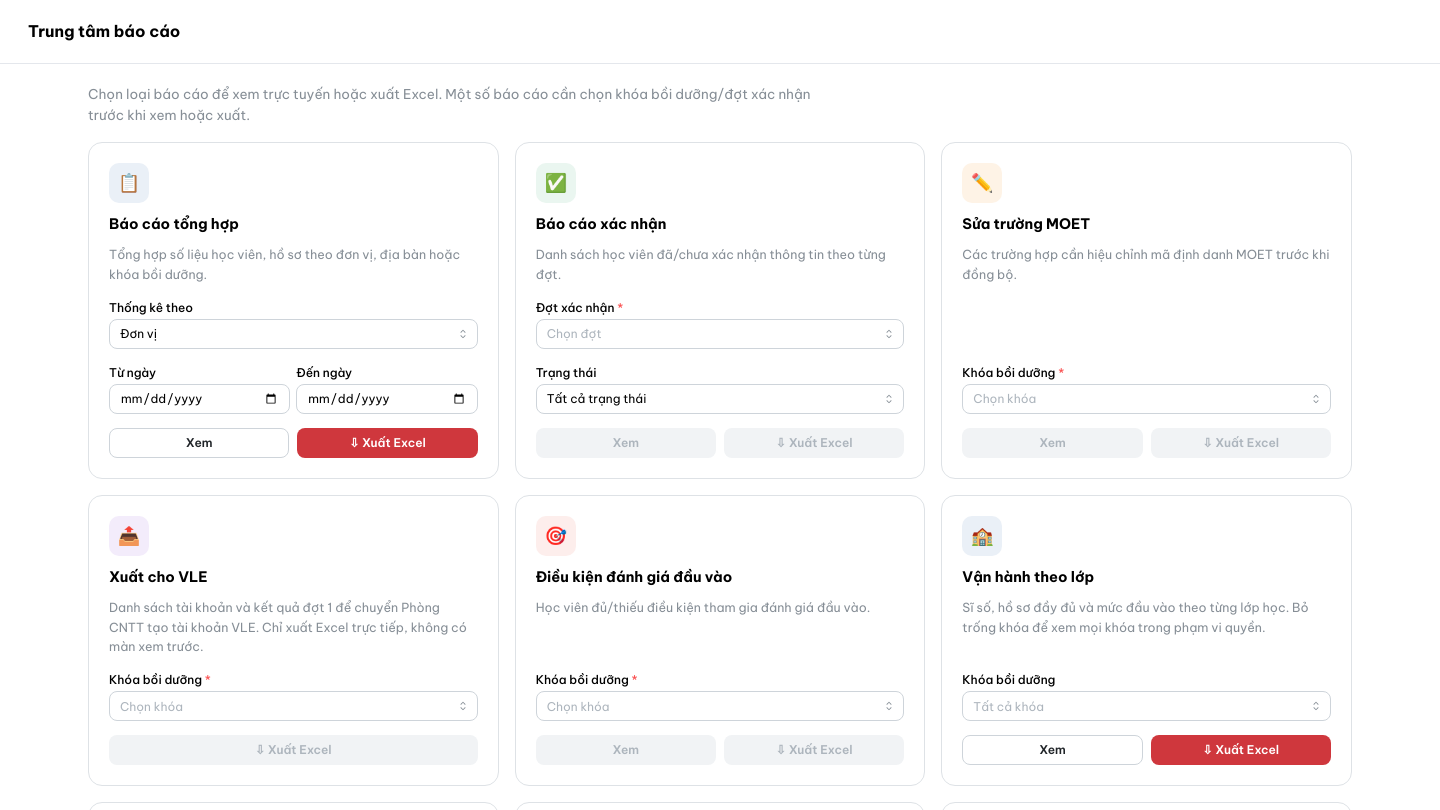
Test: Admin — Trung tâm báo cáo › báo cáo xác nhận: dot_id bắt buộc — Xem/Xuất Excel bị vô hiệu hóa cho đến khi chọn đợt
expect the button "Xem" below "Trạng thái" is disabled: met, box 536,428 -> 716,458
expect the button "⇩ Xuất Excel" below "Trạng thái" is disabled: met, box 724,428 -> 904,458
Click the field labelled "Đợt xác nhận *". click: (720, 334)
box: 536,319 -> 904,349
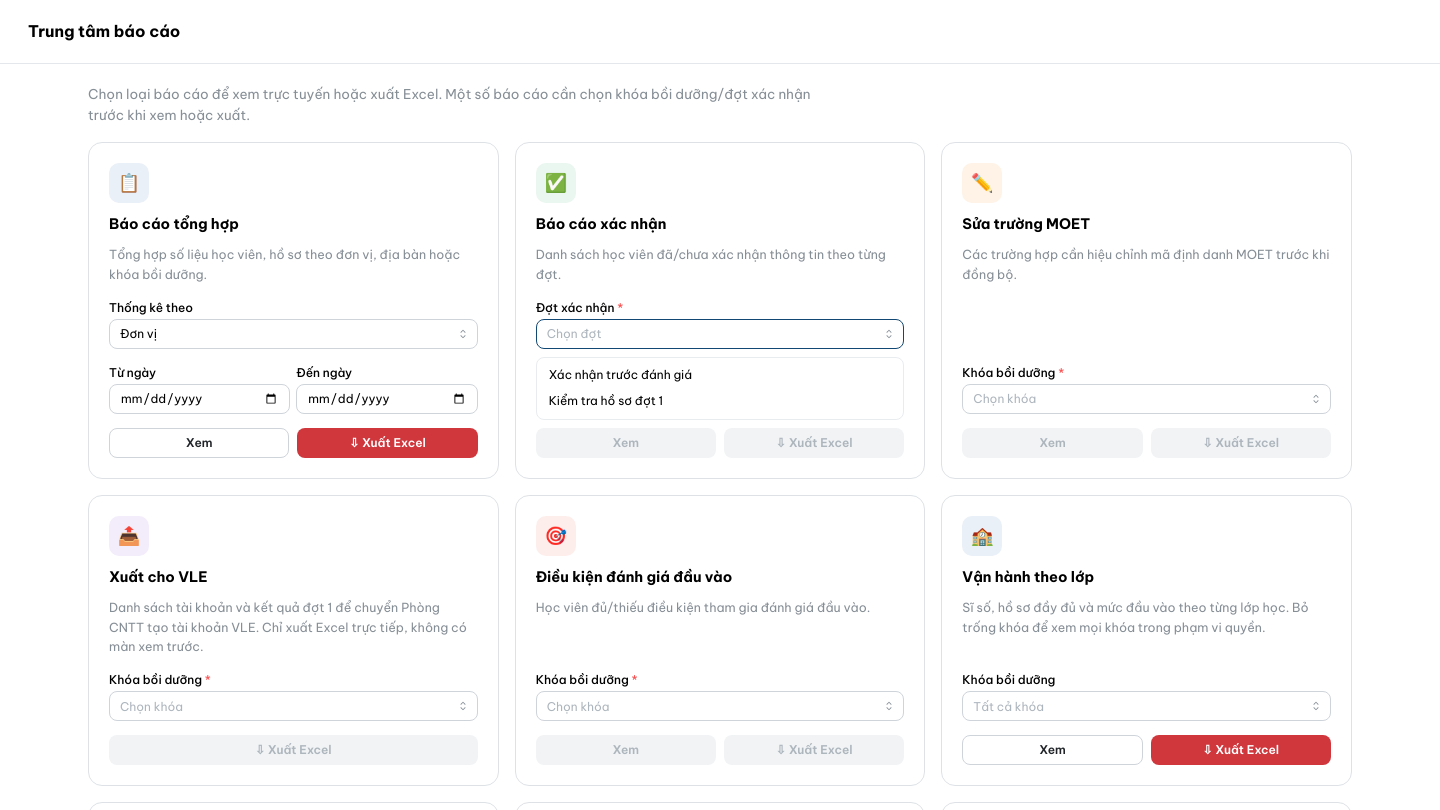
Click the option "Kiểm tra hồ sơ đợt 1". click: (606, 401)
box: 549,394 -> 663,408
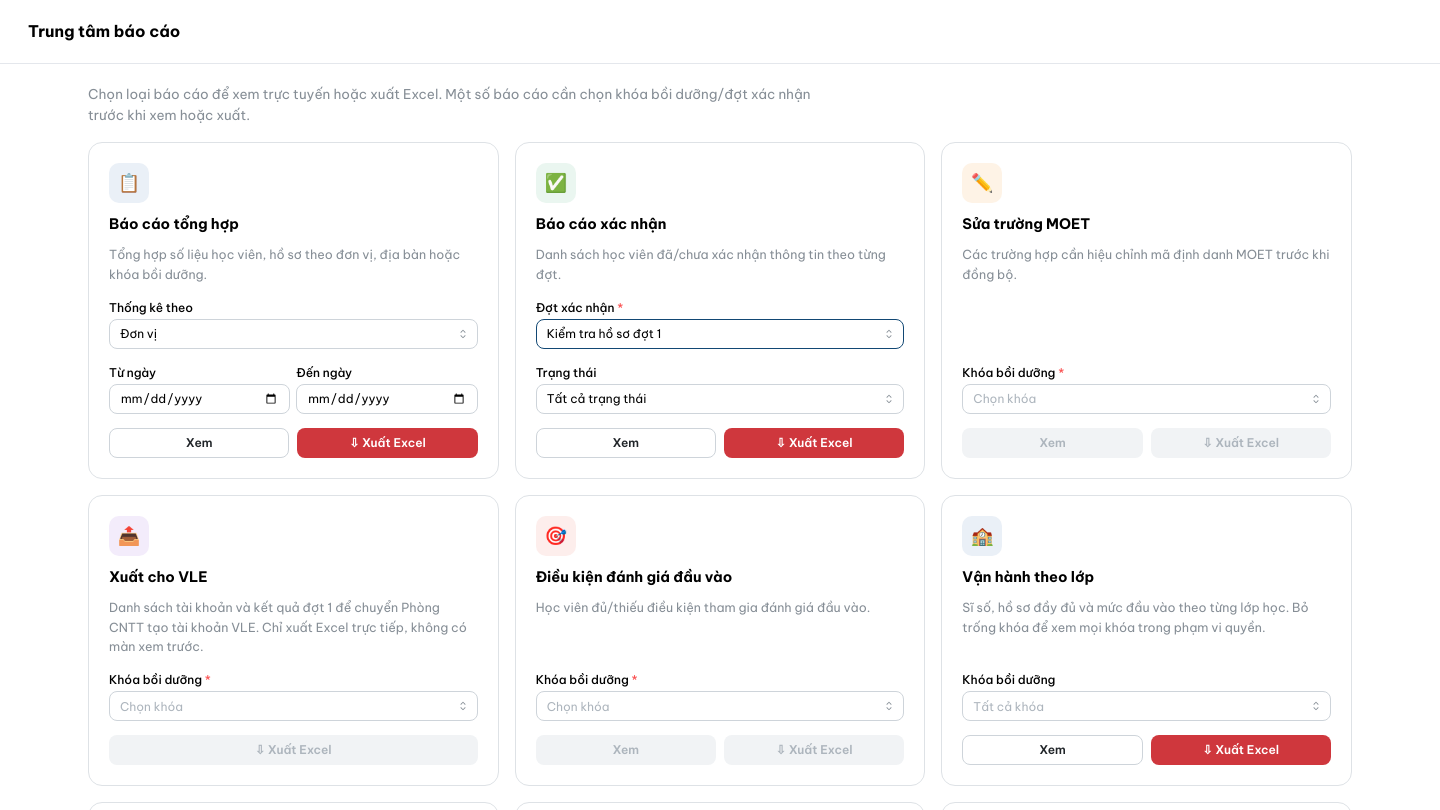
expect the button "Xem" below "Trạng thái" is enabled: met
Click the button "Xem" below "Trạng thái". click: (626, 443)
box: 536,428 -> 716,458
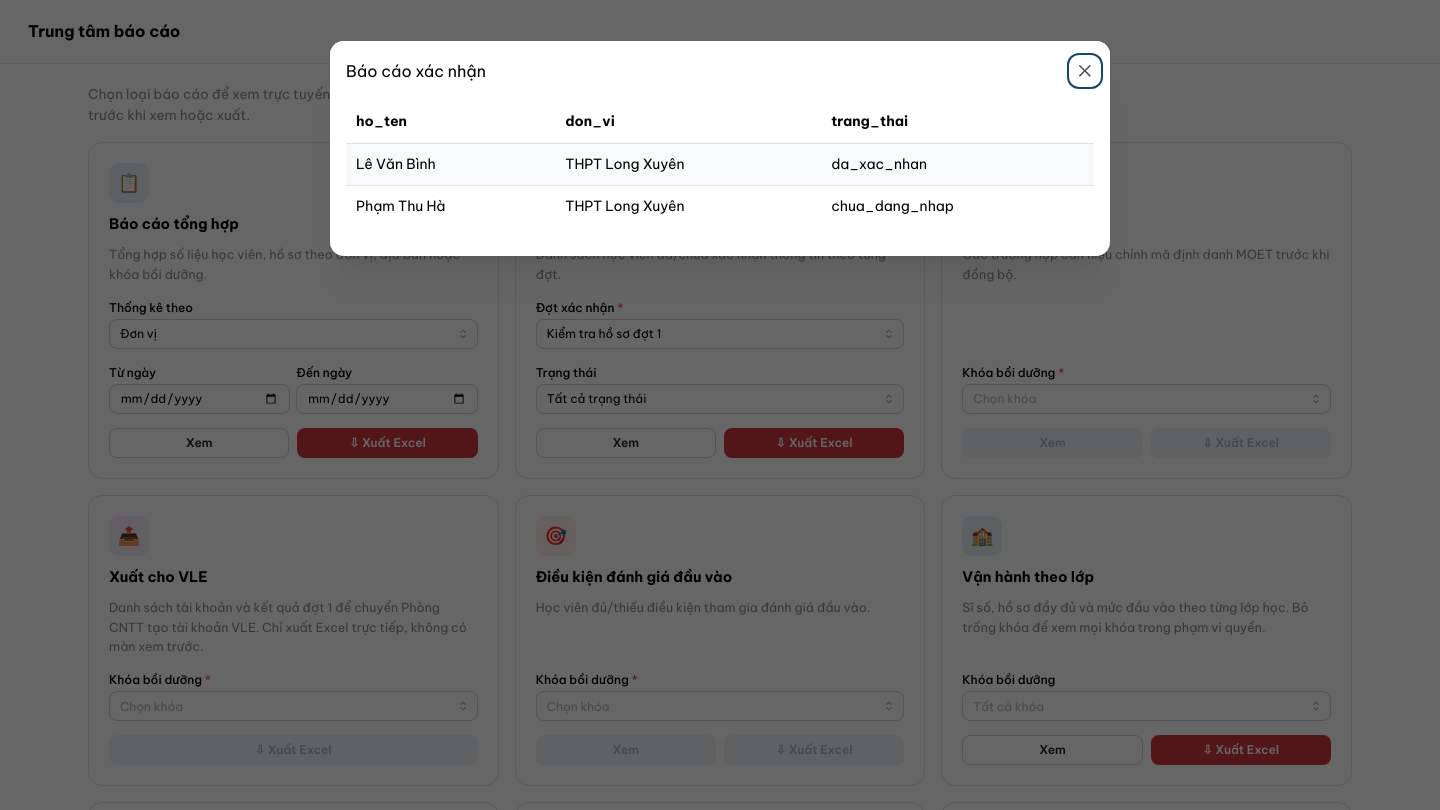
expect the text "Lê Văn Bình" is shown: met, box 346,143 -> 555,185
